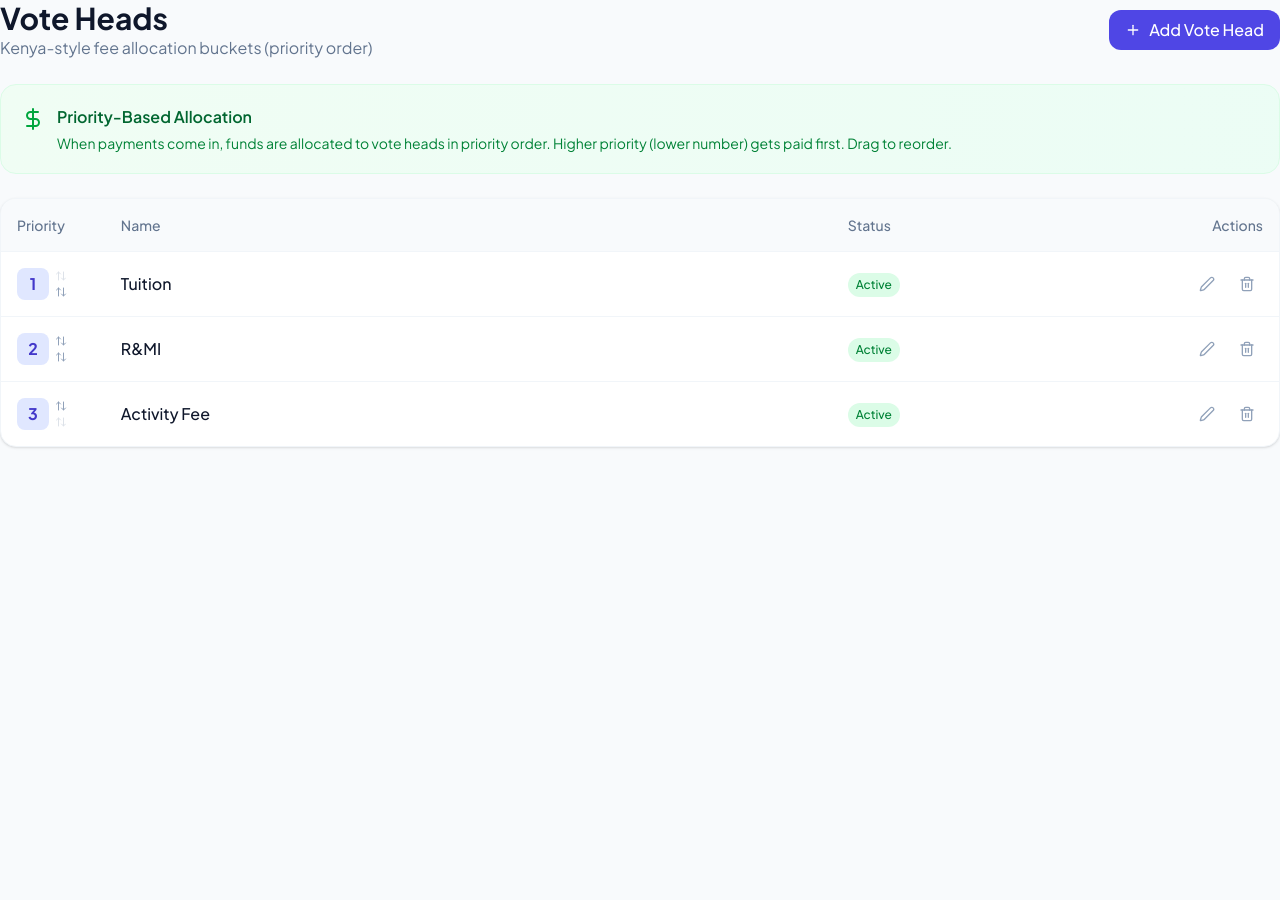
Test: VoteHeadPage › Modal Interaction › shows input field in modal
The width and height of the screenshot is (1280, 900).
Expected: the text "Tuition" is shown, [121,273,172,294]
Click the button "Add Vote Head" at point(1195, 30), box [1109,10,1279,50]
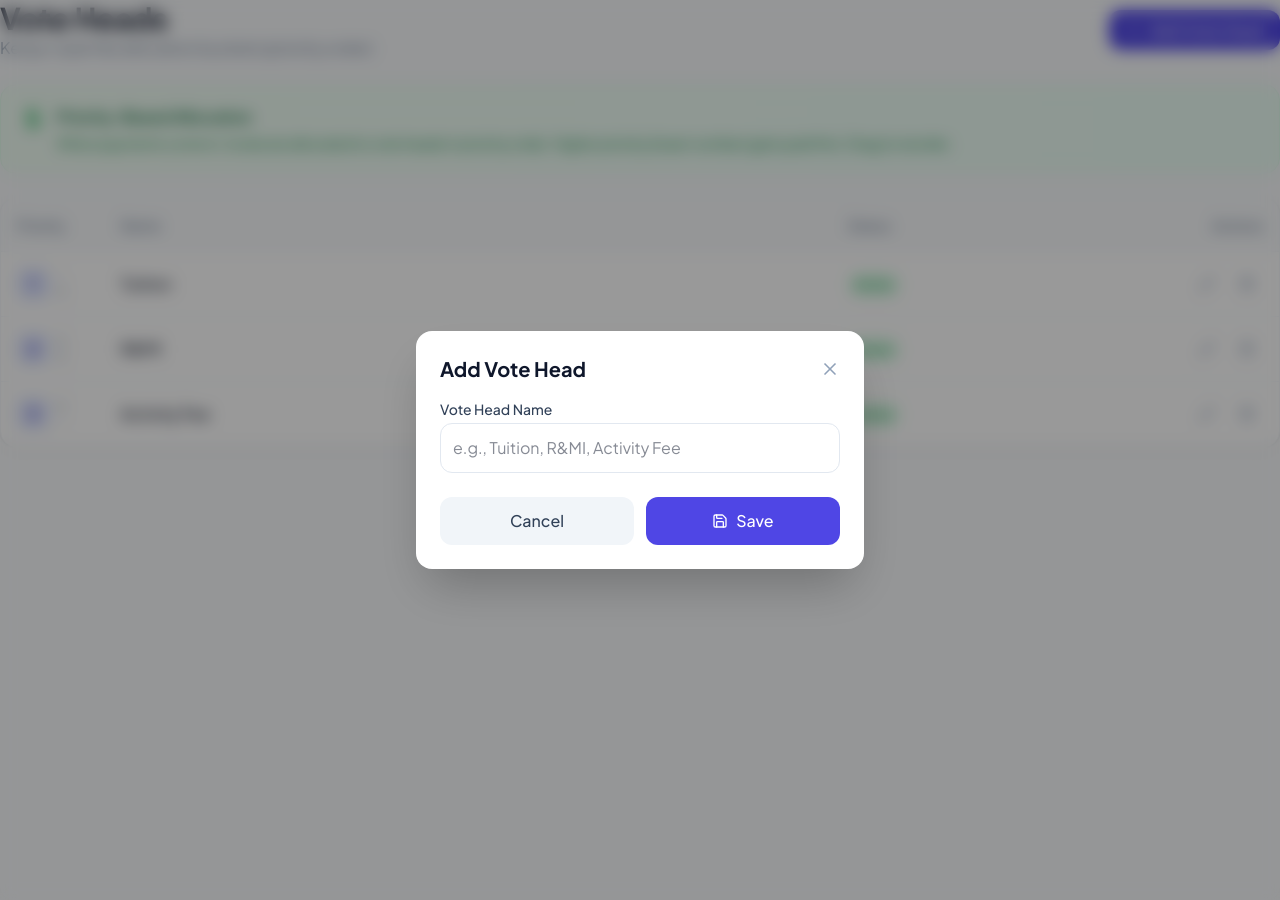
Expected: the field with placeholder "e.g., Tuition, R&MI, Activity Fee" is shown, [440,423,840,473]
